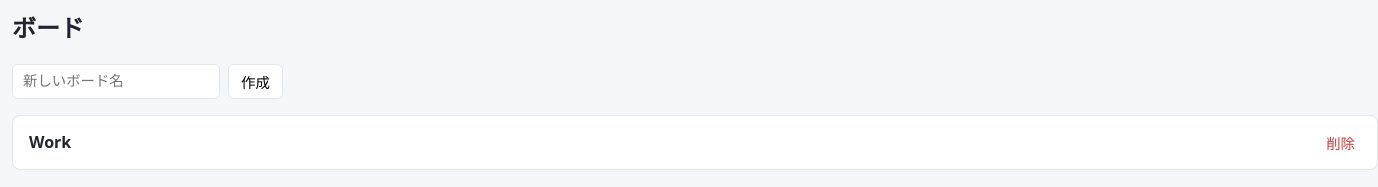
Test: BoardsPage › deletes a board
The width and height of the screenshot is (1378, 187).
expect the link "Work" is shown: met, box [29,131,71,153]
Click the button with aria-label "Work を削除". click: x=1341, y=142
box: [1320,128,1361,157]
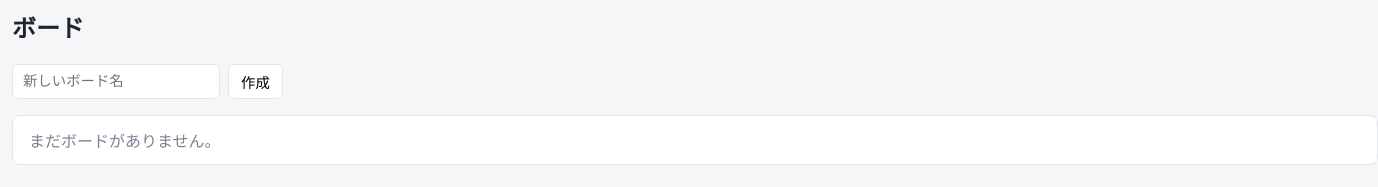
expect the link "Work" is gone: met
